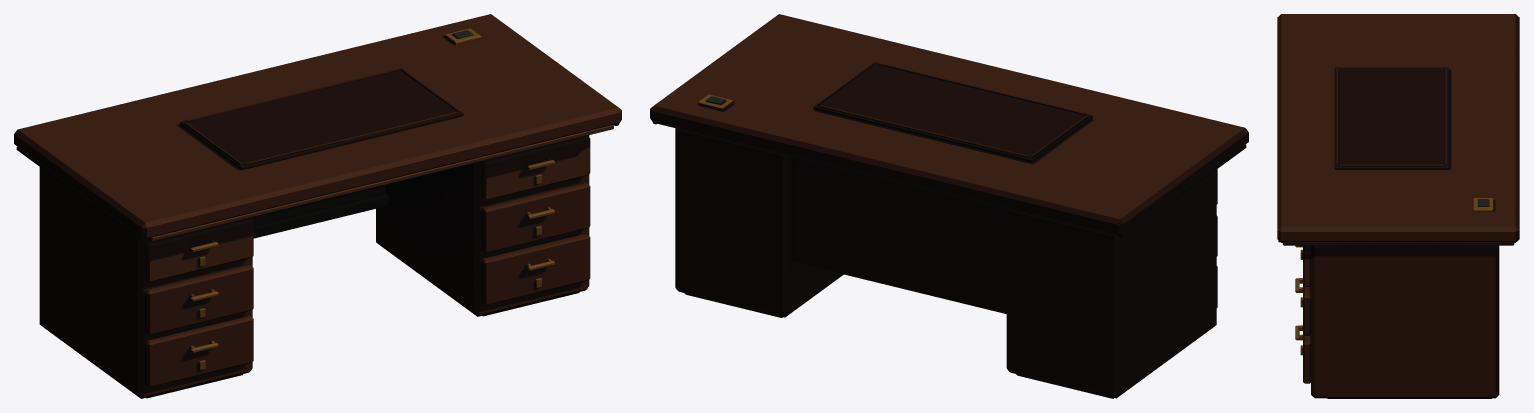
File: 0-20261016-1900-ev049-r09-cfo-execdesk_baked.glb
The picture shows the model from 3 angles, left to right: view 1: azimuth 30°, elevation 25°; view 2: azimuth 150°, elevation 25°; view 3: azimuth 270°, elevation 25°; orthographic projection. The views are drawn at different scales.
Parts seen in each view (by area): view 1: SW_Exec_ExecDesk; view 2: SW_Exec_ExecDesk; view 3: SW_Exec_ExecDesk.
Part boxes in pixels (bbox=[...]): SW_Exec_ExecDesk: bbox=[14, 14, 621, 398]; SW_Exec_ExecDesk: bbox=[650, 14, 1248, 398]; SW_Exec_ExecDesk: bbox=[1277, 14, 1519, 398].
Size of the model in its own units: 1.9 by 0.7605 by 0.9.
Materials: 1 (1 with a texture image).
